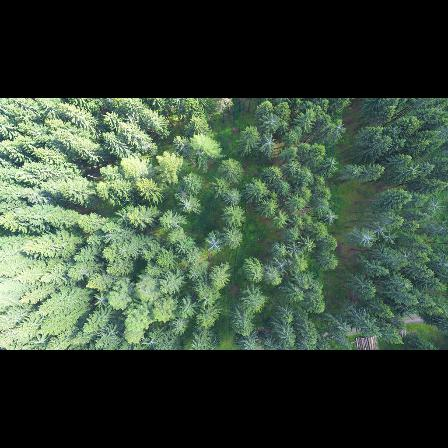Sick: (202, 233, 223, 254), (260, 133, 278, 155), (427, 197, 447, 215), (285, 239, 303, 259), (259, 115, 281, 131), (323, 210, 340, 228), (271, 259, 288, 276), (357, 233, 377, 246)
